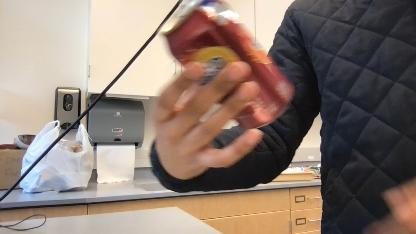Can: (160, 0, 298, 130)
